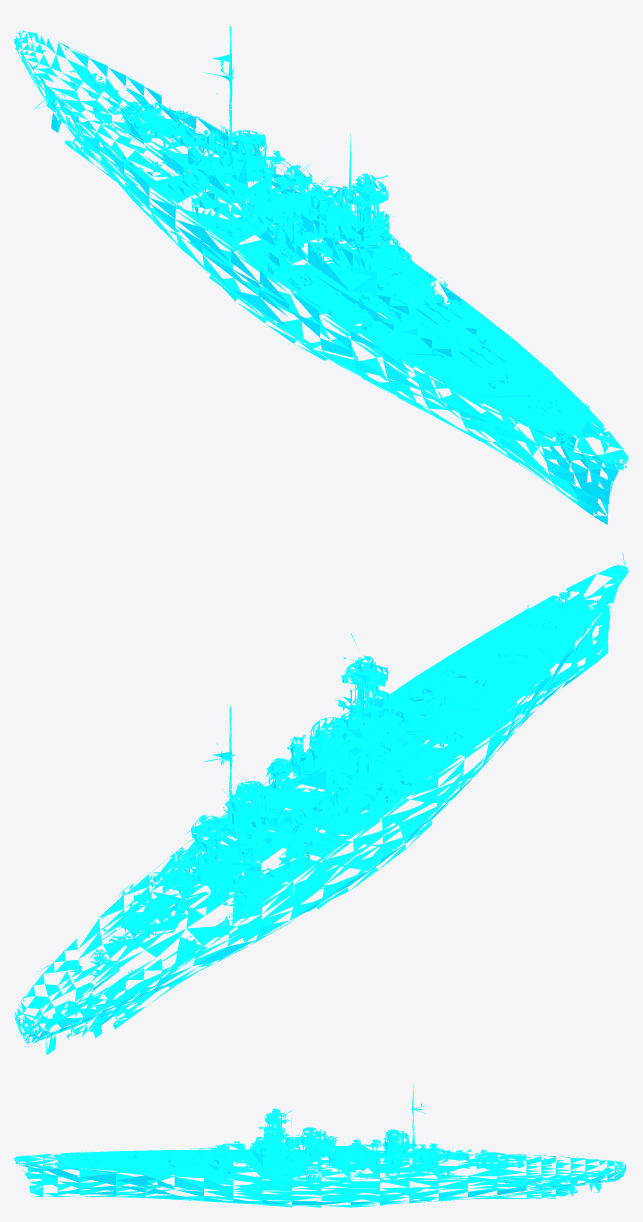
Rendered from Aegir.glb.
3 renders of one model, top to bottom at view 1: azimuth 30°, elevation 25°; view 2: azimuth 150°, elevation 25°; view 3: azimuth 270°, elevation 25°, orthographic. The views are drawn at different scales.
Bounding box in the file's own units: 2.03 × 3.49 × 17.17.
